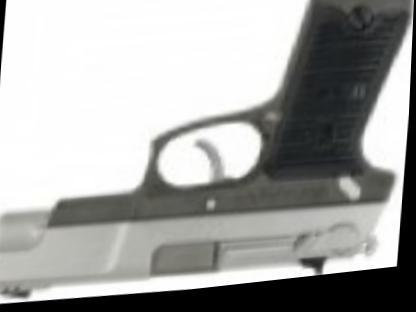pistol: (0, 0, 409, 311)
